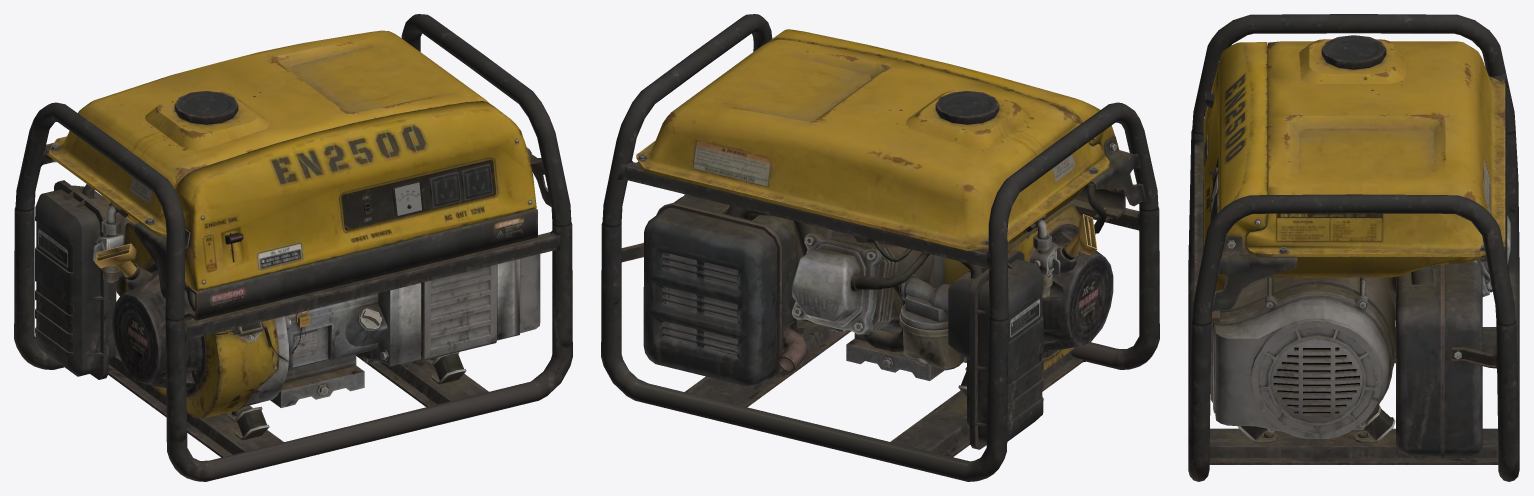
File: portable_generator.glb
The picture shows the model from 3 angles, left to right: view 1: azimuth 30°, elevation 25°; view 2: azimuth 150°, elevation 25°; view 3: azimuth 270°, elevation 25°; orthographic projection.
Visible parts, largest first — view 1: portable_generator; view 2: portable_generator; view 3: portable_generator.
Part boxes in pixels (box(x1,y1,x2,y2)): portable_generator: box(14, 14, 572, 481); portable_generator: box(601, 14, 1159, 481); portable_generator: box(1188, 14, 1519, 481).
Size of the model in its own units: 0.8169 by 0.5752 by 0.564.
2 materials, 2 textured.
